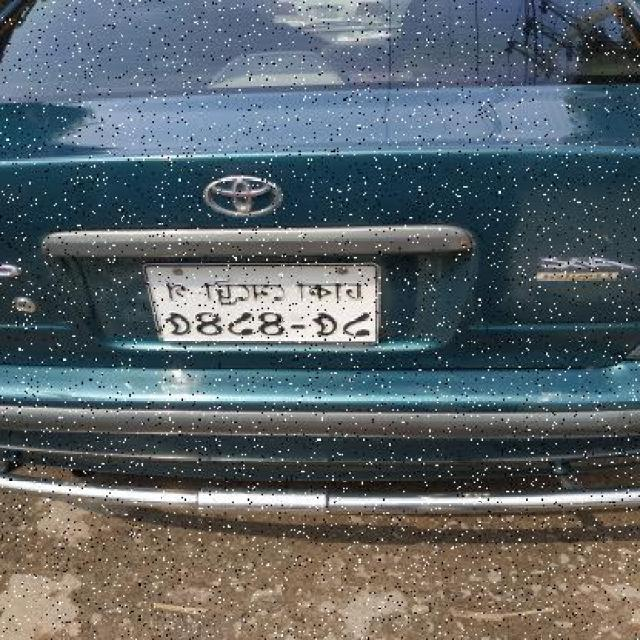numberplate: (140, 260, 380, 346)
